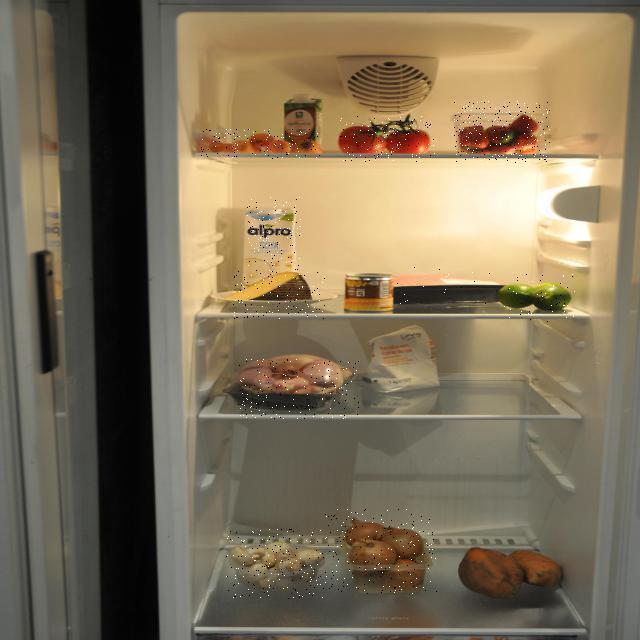Carne pollo: (238, 358, 359, 419)
Champiñones: (226, 529, 326, 599)
Queso: (233, 270, 325, 319)
